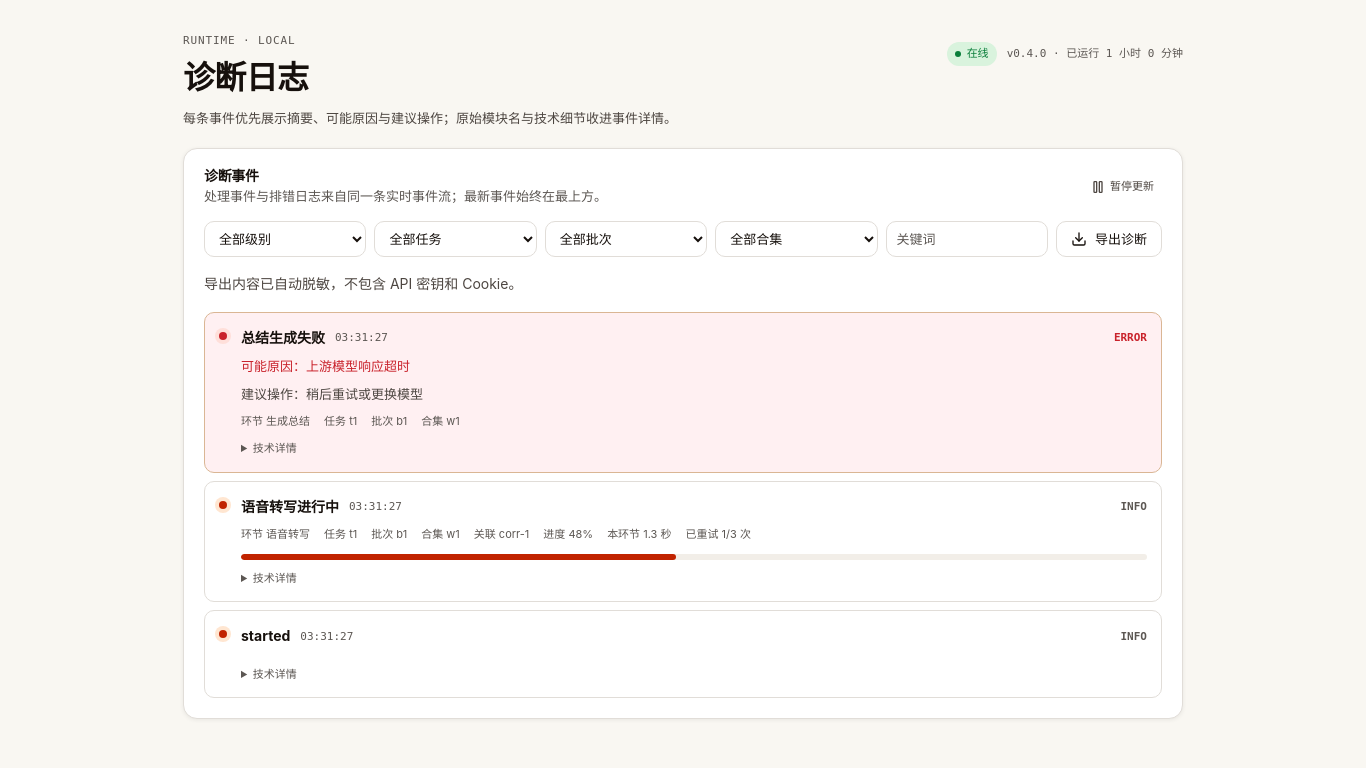
Scenario: DeployMonitorPage 诊断日志 › 原始模块名与 technical_detail 收进可展开详情
Expected: the text "ReadTimeout after 60s" is not shown
Expected: the text "summary_generator" is not shown
Click the heading "技术详情" below "环节 生成总结": (275, 448) x1=253 y1=441 x2=297 y2=455
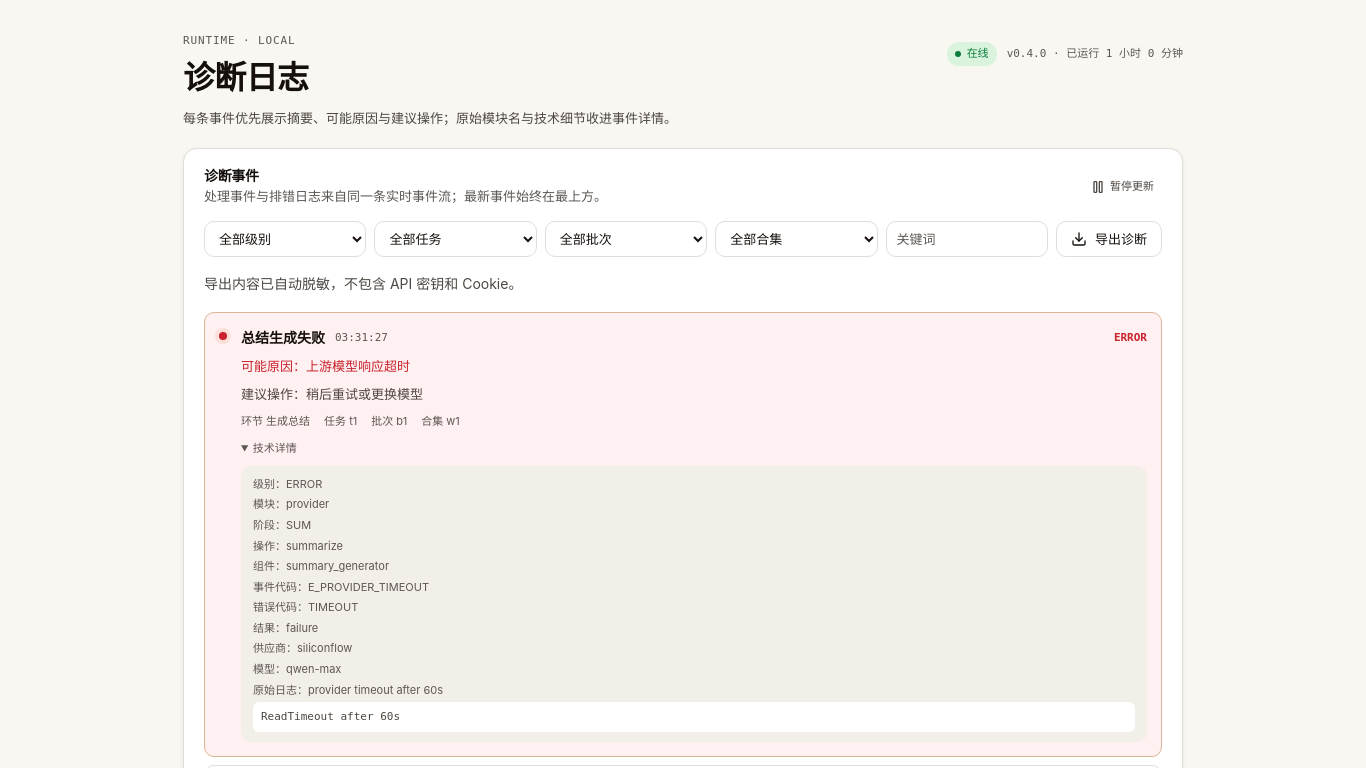
Expected: the text "ReadTimeout after 60s" is shown, x1=253 y1=702 x2=1135 y2=732
Expected: the text "组件：summary_generator" is shown, x1=253 y1=559 x2=389 y2=573
Expected: the text "事件代码：E_PROVIDER_TIMEOUT" is shown, x1=253 y1=580 x2=429 y2=594
